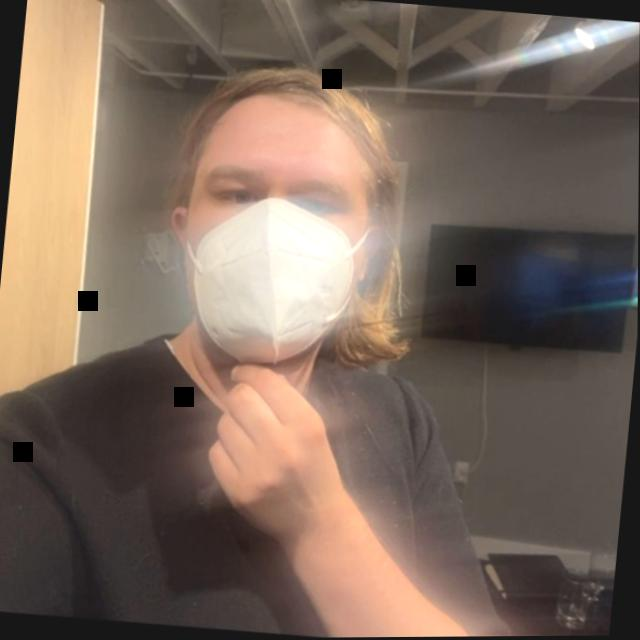Mask: (150, 43, 459, 396)
